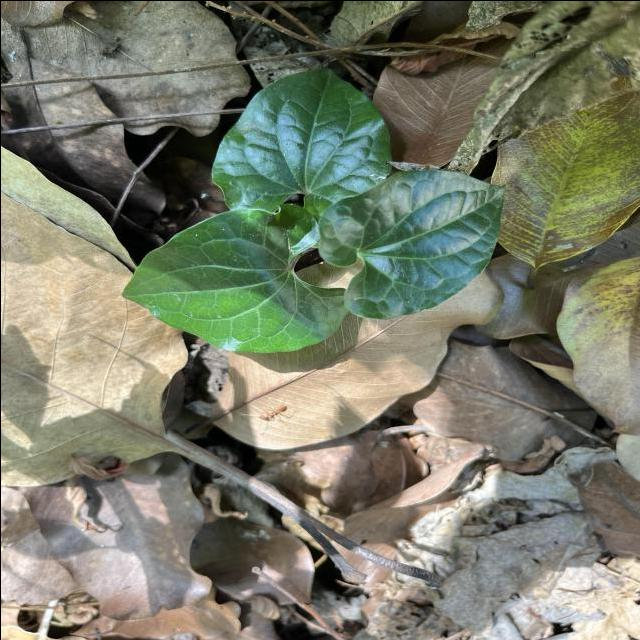Piper longum: (118, 200, 346, 354), (314, 167, 506, 321), (208, 66, 394, 216)
